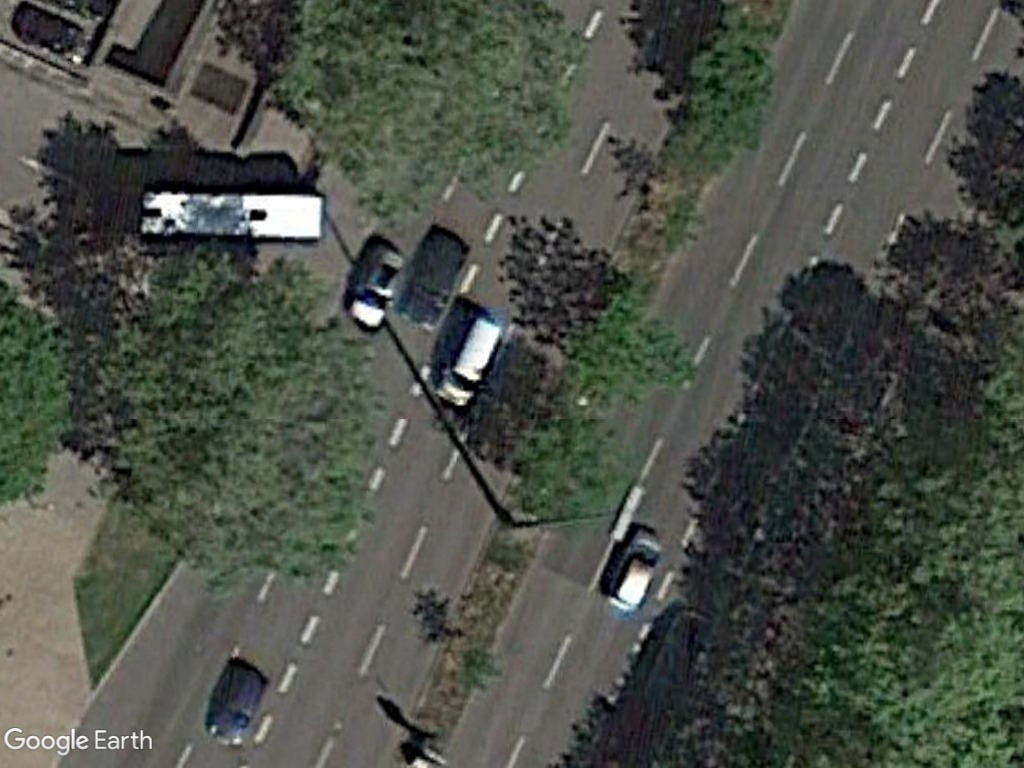bus: (136, 189, 330, 243)
car: (600, 528, 668, 620), (203, 655, 269, 747)
van: (431, 308, 504, 414), (342, 244, 408, 331)
